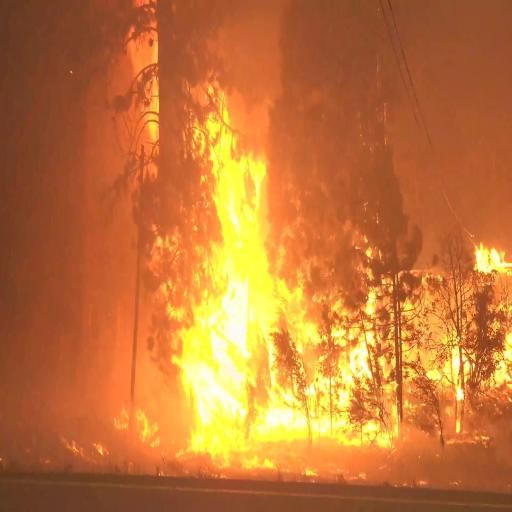fire: (196, 106, 272, 433), (254, 273, 380, 450), (462, 222, 501, 299)
